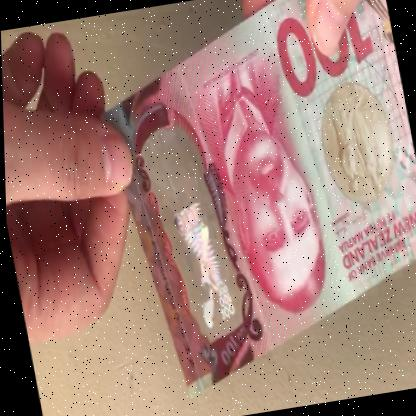100F: (148, 128, 242, 336)
